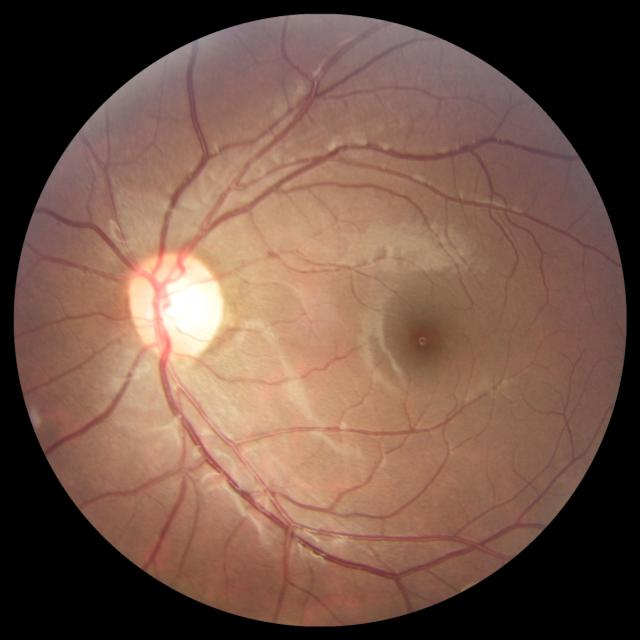OC: (148, 271, 219, 344)
OD: (126, 249, 223, 357)
